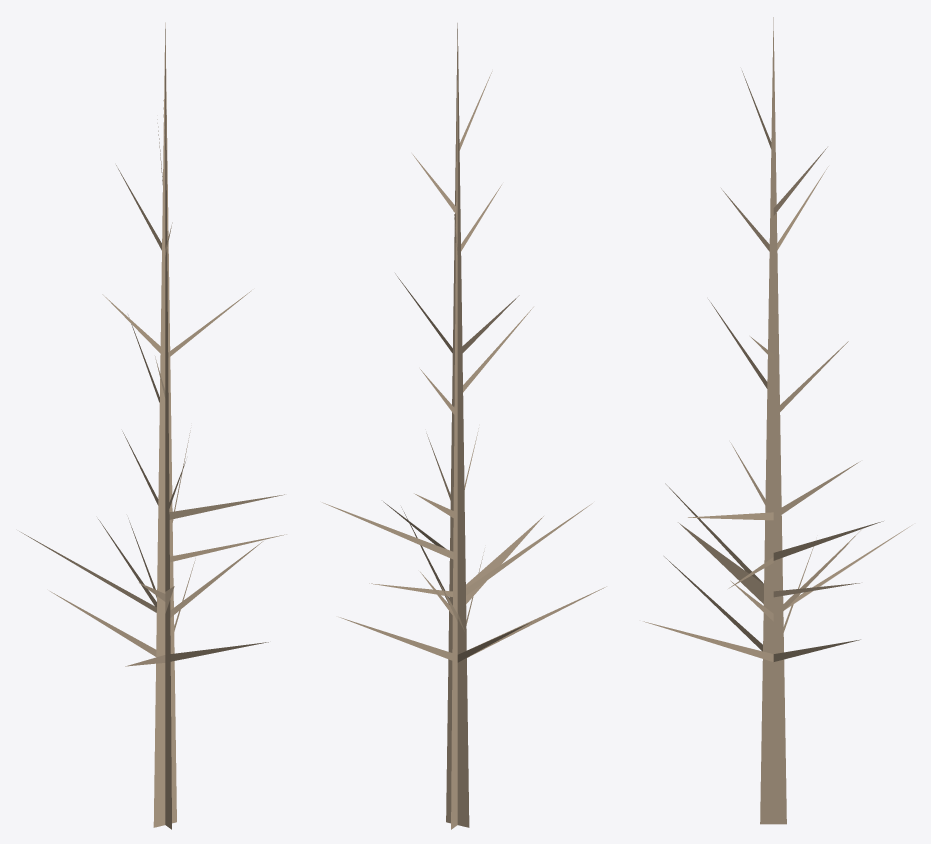
File: tre3.glb
3 renders of one model, left to right at view 1: azimuth 30°, elevation 25°; view 2: azimuth 150°, elevation 25°; view 3: azimuth 270°, elevation 25°, orthographic.
Visible parts, largest first — view 1: tre3; view 2: tre3; view 3: tre3.
Boxes of the visible parts, box(x1,y1,x2,y2) form: tre3: box(19, 22, 286, 829); tre3: box(322, 23, 606, 829); tre3: box(643, 17, 911, 824).
Size of the model in its own units: 3.06 by 12 by 3.72.
